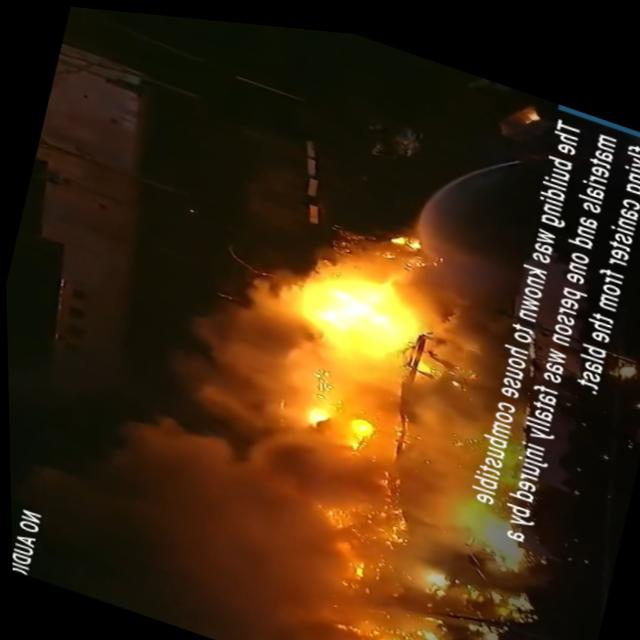Fire: (284, 478, 478, 640), (264, 341, 411, 488), (387, 336, 497, 525), (290, 242, 437, 377), (446, 500, 538, 617), (493, 78, 546, 137)
